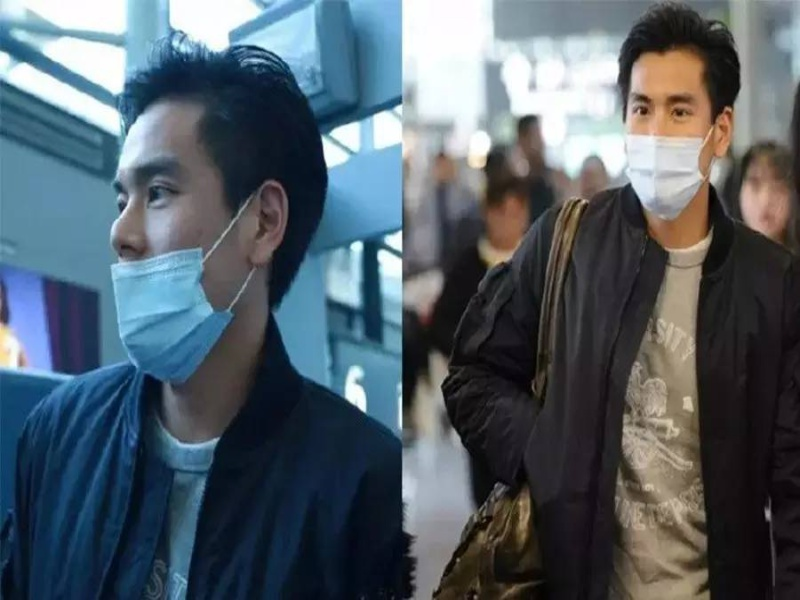mask: (110, 72, 320, 378), (618, 5, 740, 226)
